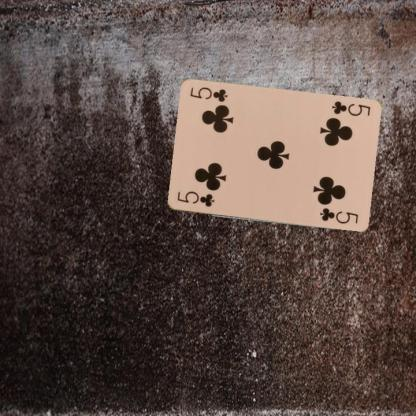5c: (174, 188, 216, 209), (328, 99, 372, 118)
